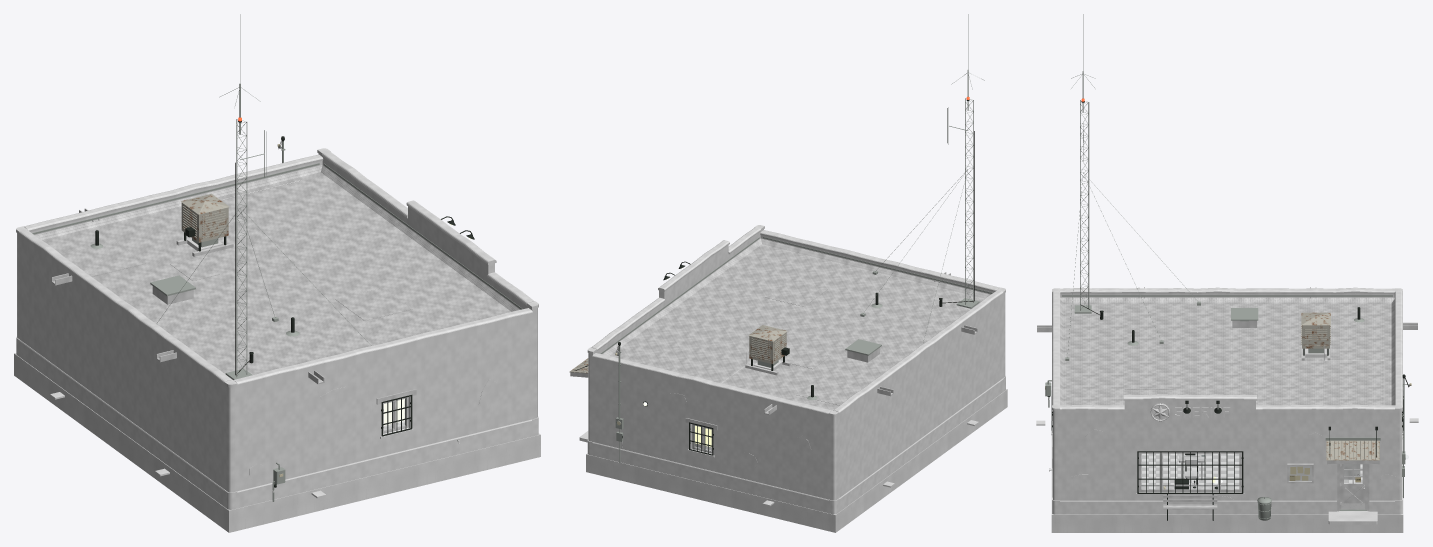
Rendered from Sheriff.glb.
3 views of the same model, side by side, from view 1: azimuth 30°, elevation 25°; view 2: azimuth 150°, elevation 25°; view 3: azimuth 270°, elevation 25° (orthographic). The views are drawn at different scales.
Parts seen in each view (by area): view 1: SM_Town_Sheriff_Shell; view 2: SM_Town_Sheriff_Shell; view 3: SM_Town_Sheriff_Shell, SM_Town_Sheriff_Interior.
Boxes of the visible parts, x1=… form: SM_Town_Sheriff_Shell: x1=14, y1=14, x2=540, y2=532; SM_Town_Sheriff_Shell: x1=569, y1=14, x2=1007, y2=532; SM_Town_Sheriff_Shell: x1=1036, y1=14, x2=1418, y2=532; SM_Town_Sheriff_Interior: x1=1141, y1=453, x2=1362, y2=489.
Bounding box in the file's own units: 12 × 15.7 × 13.38.
Materials: 40 (27 with a texture image).
